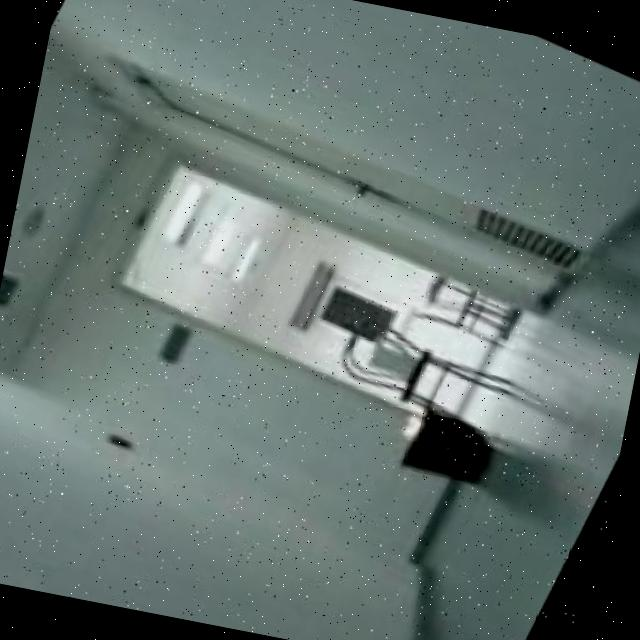fire: (399, 410, 433, 451)
